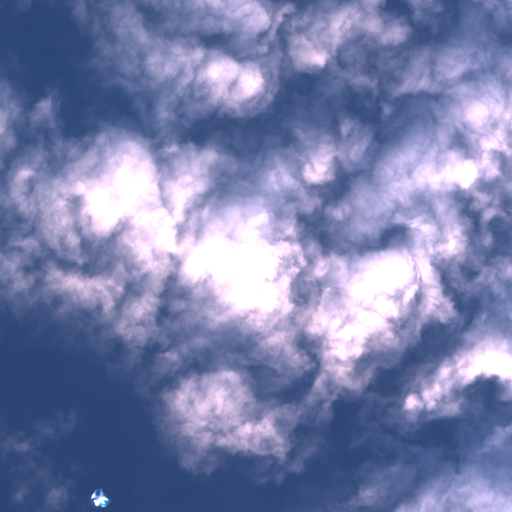Iceberg: (91, 489, 109, 506)
